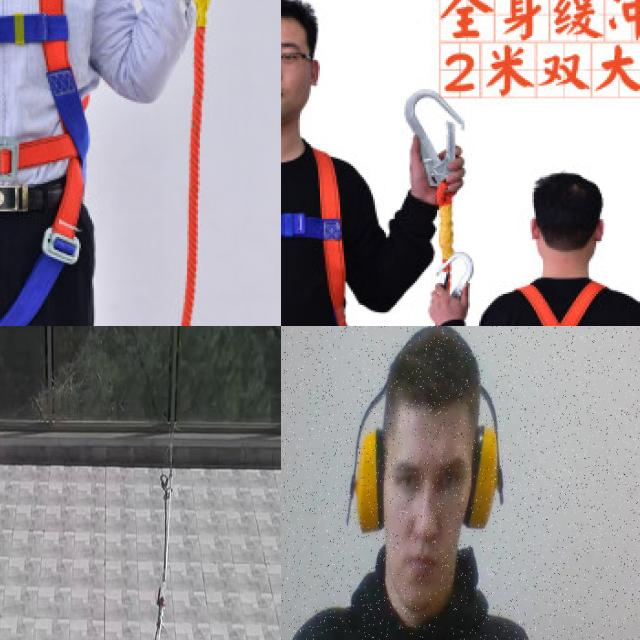Ear-protection: (460, 402, 508, 550), (339, 418, 390, 540)
Harness: (0, 0, 90, 326), (281, 136, 358, 326), (154, 469, 172, 640)
